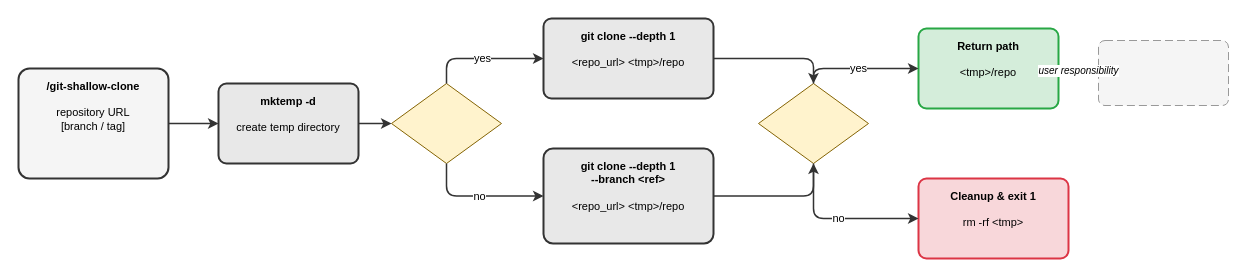
Image size: 1246x276. Some labels were removed from this diagram. The box of each missing label's shape, as (x1, y1, x2, y2) in pixels:
.git exists?: (758, 82, 868, 164)
After analysis rm -rf <tmp>: (1098, 40, 1228, 106)
ref == HEAD?: (390, 82, 502, 164)
